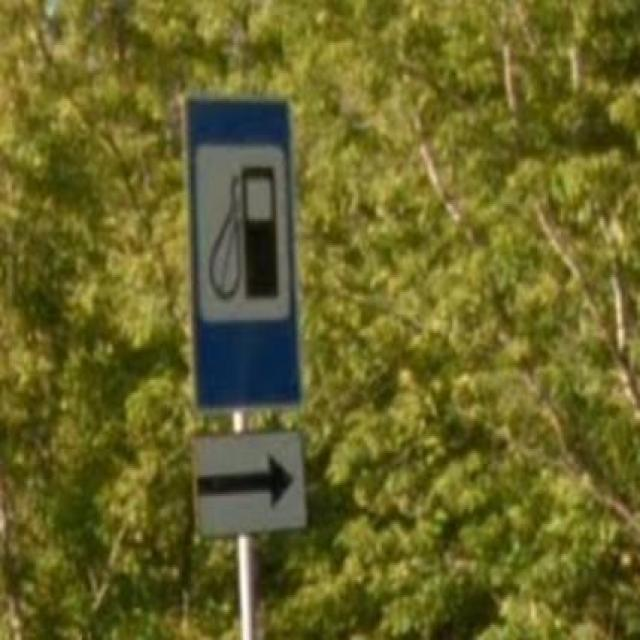traffic_sign: (182, 94, 306, 414)
